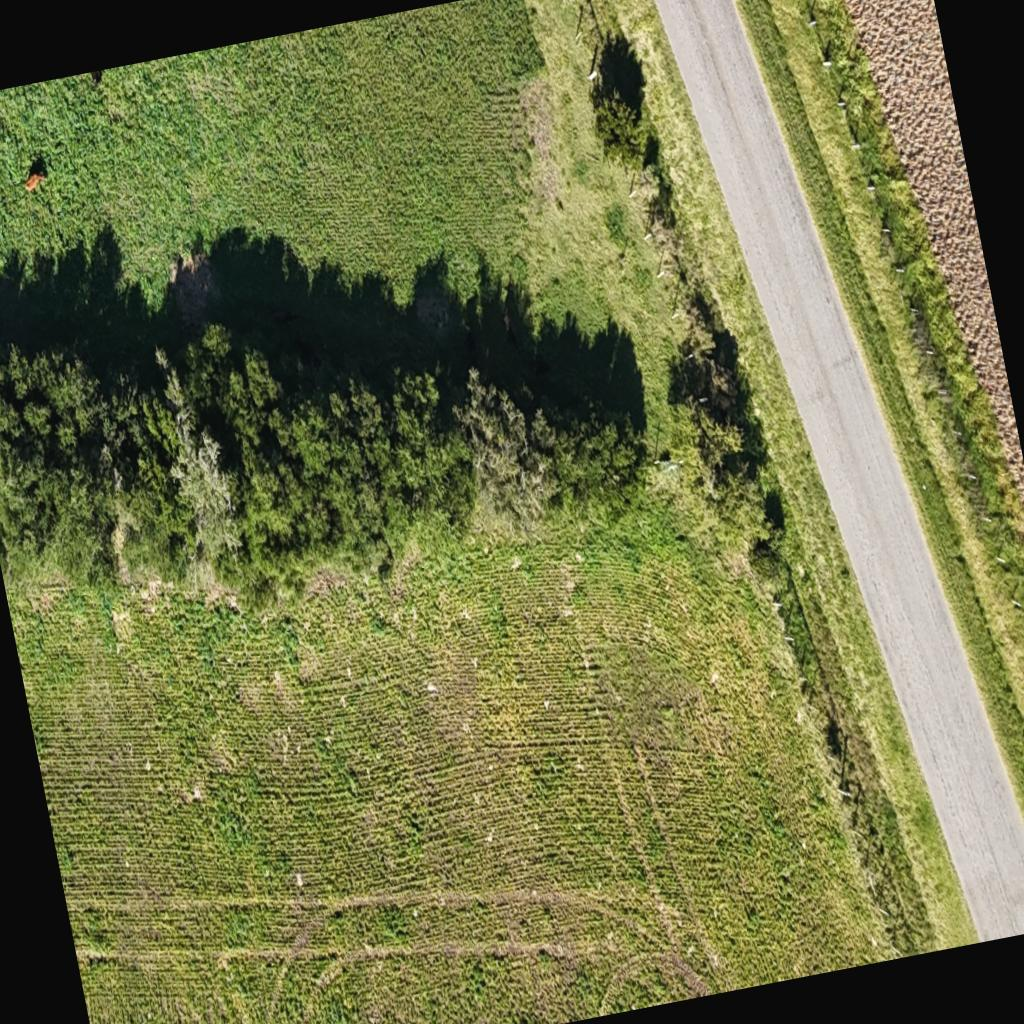cow: (18, 156, 52, 198)
